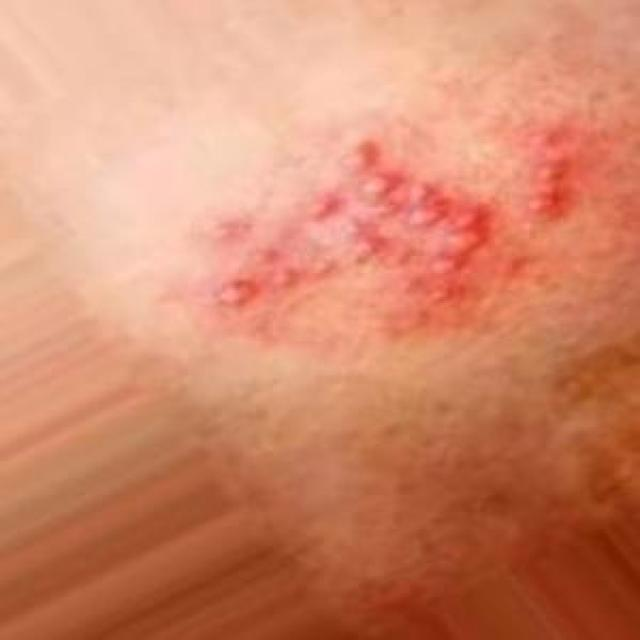Shingles: (209, 136, 567, 320)
